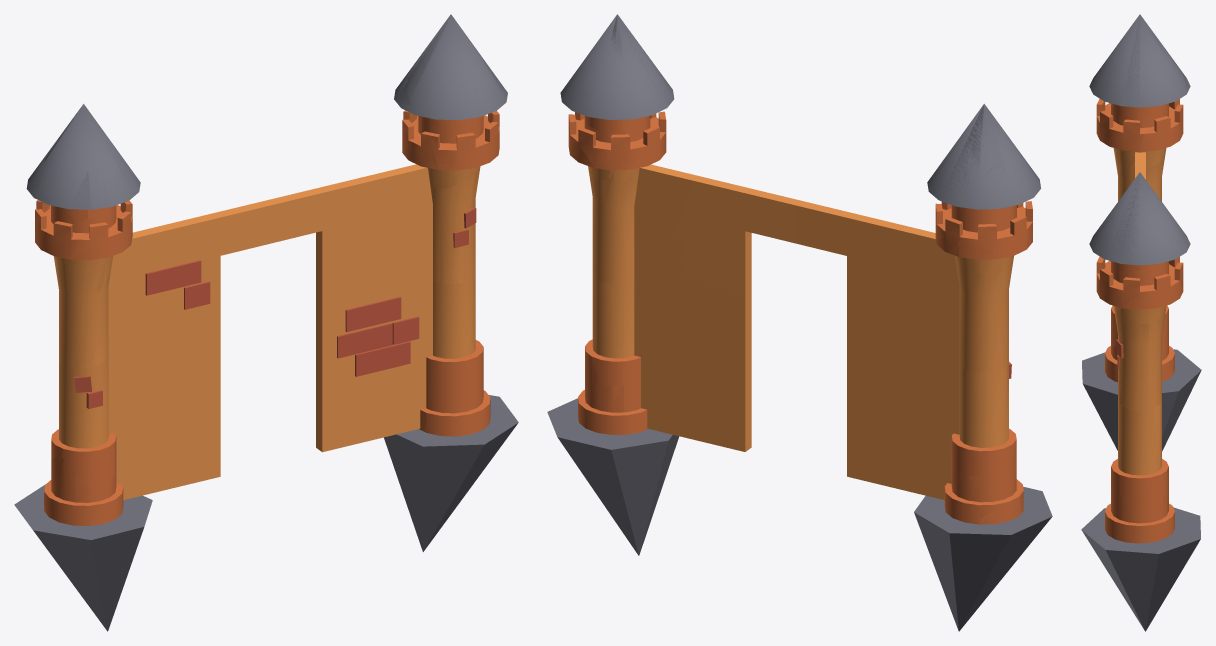
Rendered from Up_Castle.fbx.
3 views of the same model, side by side, from view 1: azimuth 30°, elevation 25°; view 2: azimuth 150°, elevation 25°; view 3: azimuth 270°, elevation 25° (orthographic). The views are drawn at different scales.
Parts seen in each view (by area): view 1: Башни_Circle.001, Cube.001, Cube.010, Cube.001_cell.014, Cube.001_cell.012, Cube.001_cell.013, Cube.001_cell, Башни_Circle.001_cell.009, Cube.001_cell.011, Cube.001_cell.010, Cube.001_cell.015, Башни_Circle.001_cell.068 (+9 smaller); view 2: Башни_Circle.001, Cube.001, Cube.001_cell.007, Cube.001_cell.008, Cube.001_cell.006, Cube.001_cell.004, Башни_Circle.001_cell.071, Башни_Circle.001_cell.050, Башни_Circle.001_cell.009, Башни_Circle.001_cell.089, Башни_Circle.001_cell.091, Башни_Circle.001_cell.077 (+12 smaller); view 3: Башни_Circle.001, Башни_Circle.001_cell.037, Башни_Circle.001_cell.096, Башни_Circle.001_cell.047, Башни_Circle.001_cell.017, Башни_Circle.001_cell.039, Башни_Circle.001_cell.016, Башни_Circle.001_cell.065, Башни_Circle.001_cell.027, Башни_Circle.001_cell.077, Башни_Circle.001_cell.034, Башни_Circle.001_cell.040 (+14 smaller).
Boxes of the visible parts, bbox=[...] form: Башни_Circle.001: bbox=[14, 14, 518, 631]; Cube.001: bbox=[108, 164, 432, 490]; Cube.010: bbox=[74, 207, 476, 408]; Cube.001_cell.014: bbox=[285, 178, 413, 341]; Cube.001_cell.012: bbox=[160, 385, 220, 490]; Cube.001_cell.013: bbox=[128, 204, 270, 380]; Cube.001_cell: bbox=[108, 369, 160, 499]; Башни_Circle.001_cell.009: bbox=[24, 457, 101, 544]; Cube.001_cell.011: bbox=[381, 297, 432, 437]; Cube.001_cell.010: bbox=[373, 166, 432, 300]; Cube.001_cell.015: bbox=[319, 340, 381, 451]; Башни_Circle.001_cell.068: bbox=[64, 361, 115, 494]; Башни_Circle.001: bbox=[547, 14, 1051, 631]; Cube.001: bbox=[634, 165, 959, 499]; Cube.001_cell.007: bbox=[667, 180, 798, 341]; Cube.001_cell.008: bbox=[796, 203, 928, 334]; Cube.001_cell.006: bbox=[686, 327, 747, 444]; Cube.001_cell.004: bbox=[634, 166, 691, 277]; Башни_Circle.001_cell.071: bbox=[976, 505, 1031, 597]; Башни_Circle.001_cell.050: bbox=[968, 368, 1016, 475]; Башни_Circle.001_cell.009: bbox=[998, 449, 1052, 524]; Башни_Circle.001_cell.089: bbox=[934, 509, 983, 604]; Башни_Circle.001_cell.091: bbox=[593, 279, 625, 361]; Башни_Circle.001_cell.077: bbox=[914, 511, 982, 618]; Башни_Circle.001: bbox=[1081, 14, 1201, 631]; Башни_Circle.001_cell.037: bbox=[1116, 309, 1149, 409]; Башни_Circle.001_cell.096: bbox=[1120, 532, 1200, 595]; Башни_Circle.001_cell.047: bbox=[1110, 175, 1139, 270]; Башни_Circle.001_cell.017: bbox=[1114, 17, 1148, 112]; Башни_Circle.001_cell.039: bbox=[1148, 309, 1165, 406]; Башни_Circle.001_cell.016: bbox=[1138, 111, 1167, 151]; Башни_Circle.001_cell.065: bbox=[1117, 155, 1165, 200]; Башни_Circle.001_cell.027: bbox=[1136, 405, 1159, 496]; Башни_Circle.001_cell.077: bbox=[1162, 369, 1191, 437]; Башни_Circle.001_cell.034: bbox=[1121, 495, 1141, 542]; Башни_Circle.001_cell.040: bbox=[1116, 582, 1170, 630].
Bounding box in the file's own units: 447 × 470 × 109.
